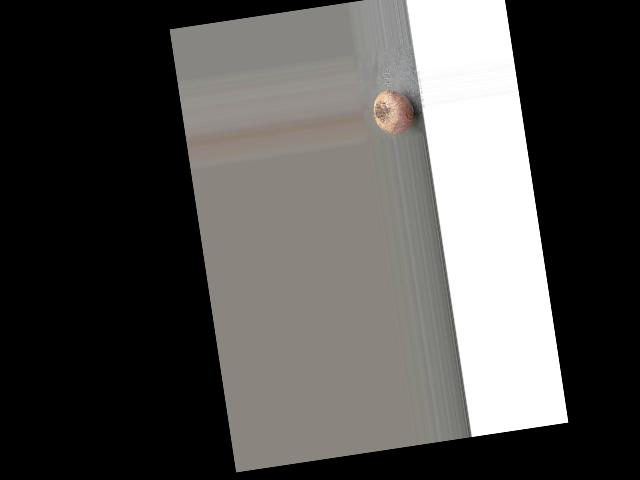beet: (371, 87, 416, 138)
